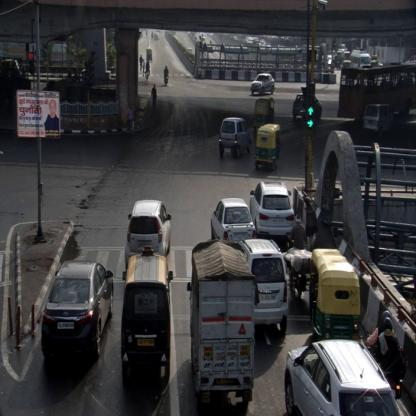bus: (338, 61, 416, 118), (350, 48, 372, 73)
car: (285, 337, 400, 415), (120, 250, 172, 398), (42, 259, 114, 361), (239, 238, 287, 339), (124, 199, 173, 268), (251, 179, 297, 240), (211, 197, 256, 245), (219, 117, 253, 159), (364, 102, 394, 136), (291, 95, 322, 122), (250, 72, 276, 95)
motorcycle: (288, 214, 304, 300), (164, 64, 170, 86), (146, 61, 150, 80)
truck: (187, 241, 252, 407)
